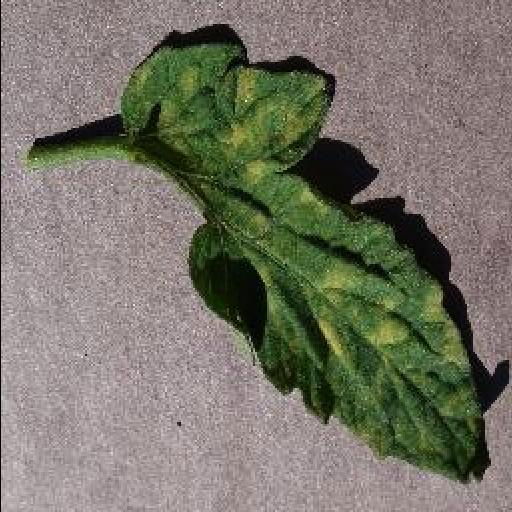disease_tomato: (120, 47, 486, 483)
